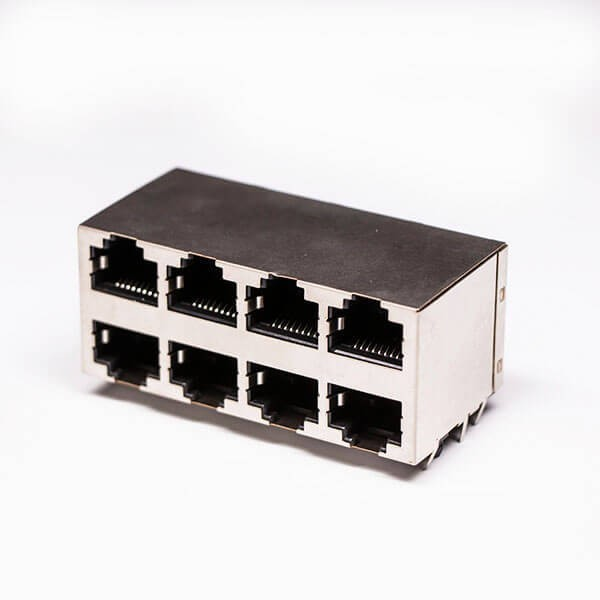lan: (324, 282, 413, 377), (323, 369, 412, 462), (243, 266, 324, 359), (164, 246, 242, 340), (244, 355, 324, 443), (88, 314, 164, 405), (163, 332, 243, 418), (83, 229, 162, 313)
